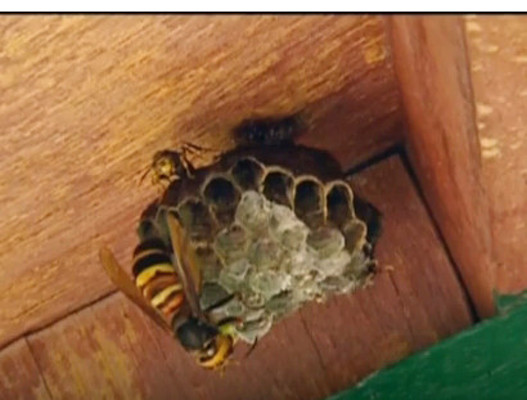asian_giant_hornet: (130, 237, 257, 373), (138, 136, 209, 201)
